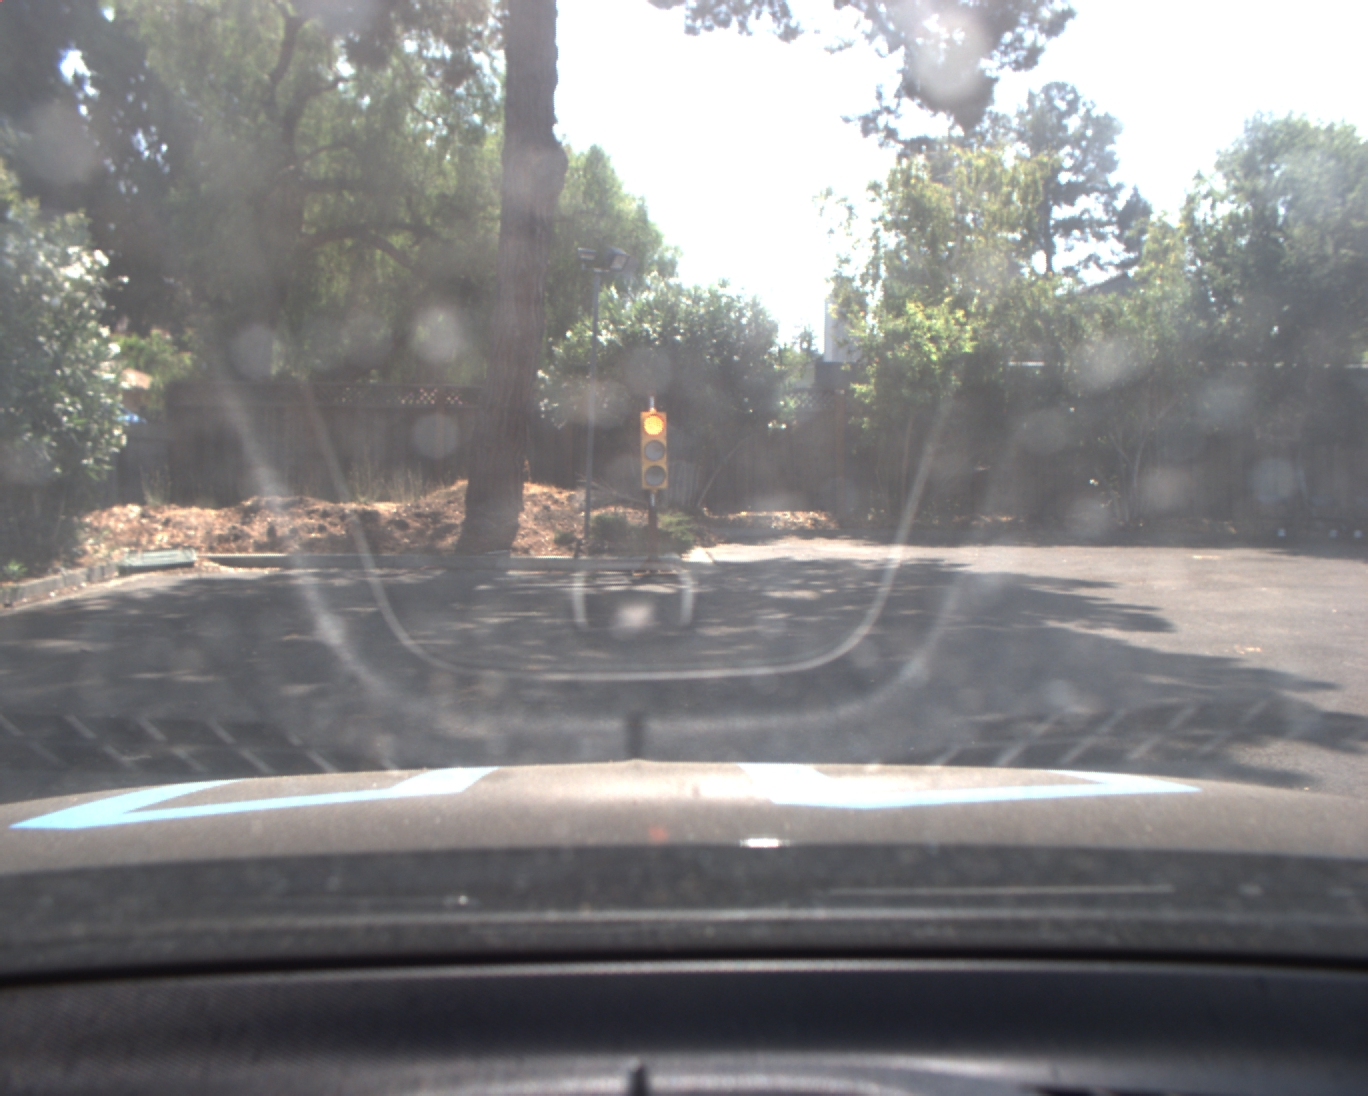red: (639, 410, 671, 493)
